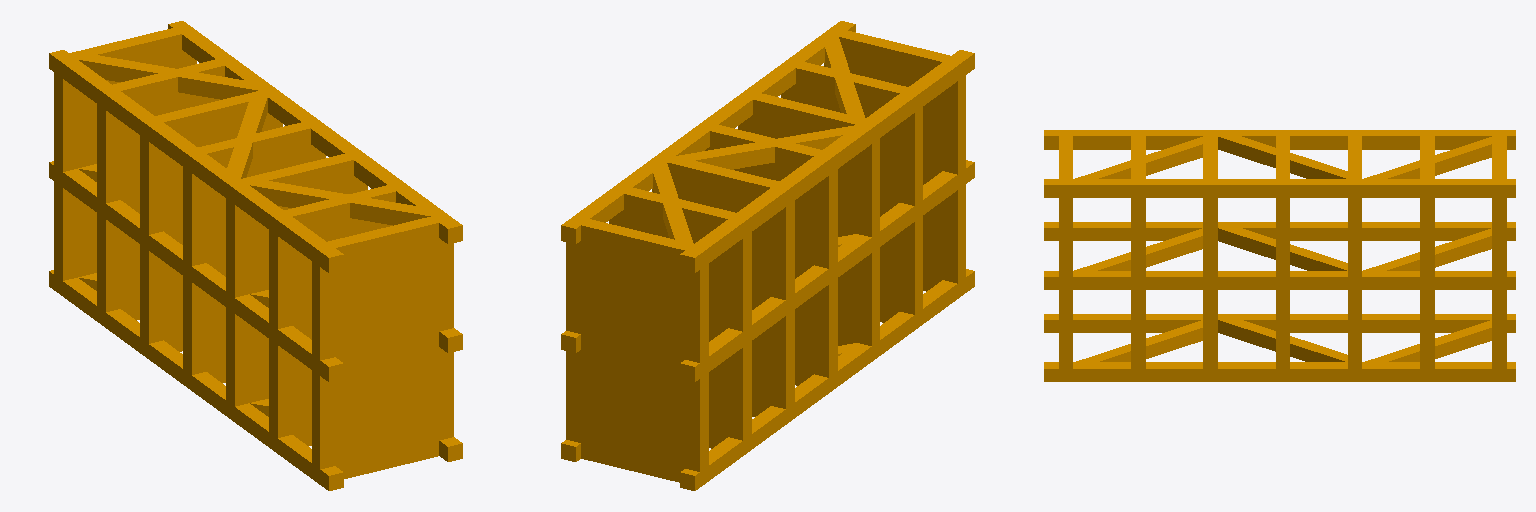
URDF robot description (shelf):
<?xml version="1.0"?>

 <!-- <gazebo reference="shelf">
     <material>Gazebo/WoodFloor</material>
     <turnGravityOff>false</turnGravityOff>
 </gazebo> -->

<robot name="shelf">

  <link name="shelf">
    <visual>
      	<geometry>
          	<mesh filename="package://process_visualizer/resources/shelf.STL"/>
      	</geometry>
	  	<!-- <material name="LightGrey" > -->
          	<!-- <color rgba="0.87 0.72 0.53 1.0" /> -->
         <!-- </material> 	 -->
    </visual>
    <inertial>
      <origin xyz="0 0 0" rpy="0 0 0"/>
       <mass value="1"/>
      <inertia
        ixx="1.0" ixy="0.0" ixz="0.0"
        iyy="1.0" iyz="0.0"
        izz="1.0"/>
    </inertial>
  </link>

    <gazebo reference="shelf">
    <material>Gazebo/Orange</material>
  </gazebo>

  <link name="world"/>

  <joint name="fixed" type="fixed">
    <parent link="world"/>
    <child link="shelf"/>
  </joint>

</robot>

--- Render facts (derived) ---
3 views of the same robot in one strip: view 1: azimuth 30°, elevation 25°; view 2: azimuth 150°, elevation 25°; view 3: azimuth 270°, elevation 25° (orthographic).
Model shelf with 2 links and 1 joints (1 fixed), rooted at world, posed all joints at 0.
Links seen in each view (by area): view 1: shelf; view 2: shelf; view 3: shelf.
Boxes of the visible links, box(x1,y1,x2,y2) form: shelf: box(49, 21, 462, 490); shelf: box(561, 21, 974, 490); shelf: box(1044, 130, 1515, 381).
Bounding box of the posed robot: 0.45 × 1.63 × 0.75 m (x, y, z).
1 mesh visuals loaded from 1 distinct referenced files (1 binary STL).